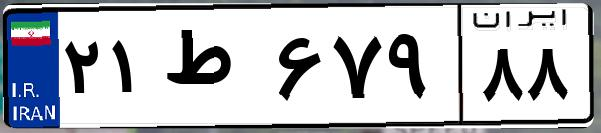1: (110, 28, 158, 98)
2: (57, 26, 110, 100)
6: (270, 28, 330, 110)
7: (330, 28, 385, 110)
8: (475, 38, 525, 113), (525, 38, 570, 115)
9: (385, 28, 445, 110)
ط: (158, 20, 270, 120)
